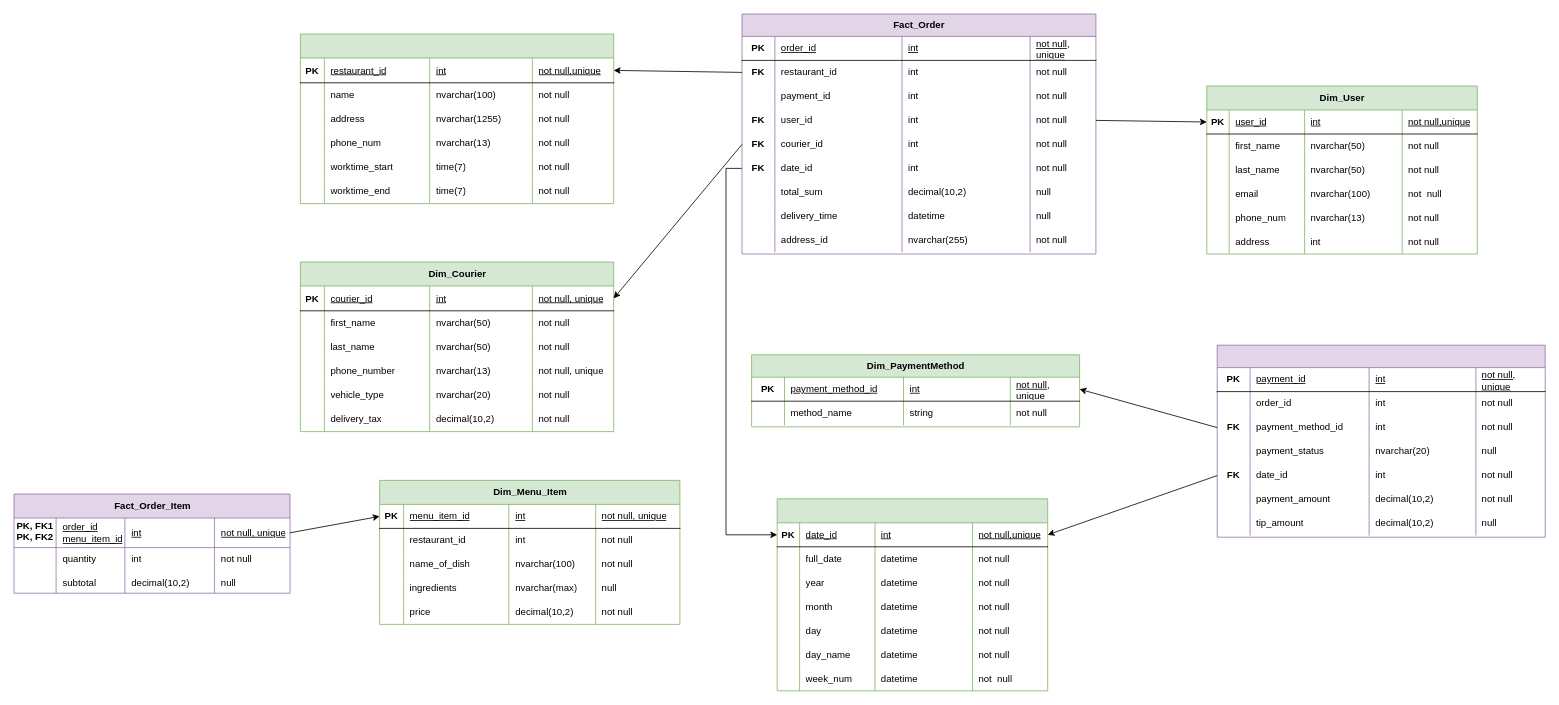
This 1559x705 diagram has some shape labels left out. The shapes that lost their labels are listed below. From the top down, each one's box as (x1, y1, x2, y2) in pixels, then its label:
(300, 33, 614, 204): Dim_Restaurant
(1216, 344, 1545, 537): Fact_Payment
(776, 498, 1048, 691): Dim_Date
